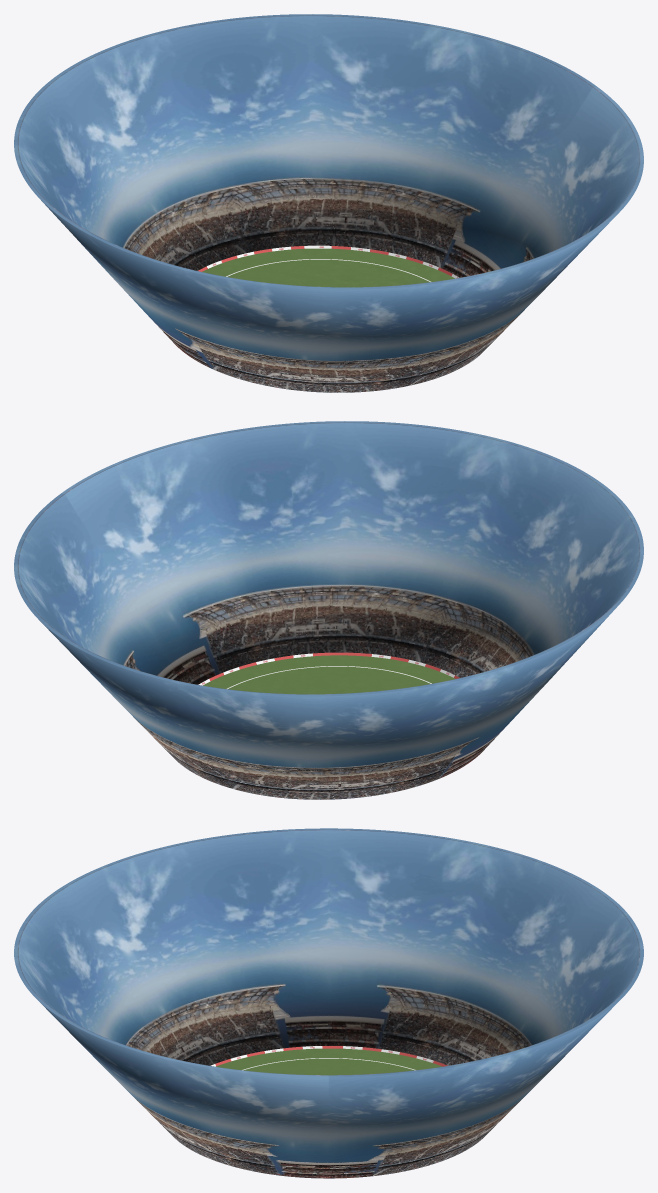
Rendered from stadium.gltf.
The picture shows the model from 3 angles, top to bottom: view 1: azimuth 30°, elevation 25°; view 2: azimuth 150°, elevation 25°; view 3: azimuth 270°, elevation 25°; orthographic projection. The views are drawn at different scales.
Parts seen in each view (by area): view 1: stadium, outer_ground; view 2: stadium, outer_ground; view 3: stadium, outer_ground.
Part boxes in pixels (left/top/right/bottom): stadium: left=14, top=14, right=643, bottom=392; outer_ground: left=202, top=248, right=454, bottom=287; stadium: left=14, top=421, right=643, bottom=799; outer_ground: left=203, top=655, right=455, bottom=694; stadium: left=14, top=828, right=643, bottom=1178; outer_ground: left=216, top=1048, right=441, bottom=1075.
Bounding box in the file's own units: 272 × 81.42 × 291.
13 materials, 7 textured.
